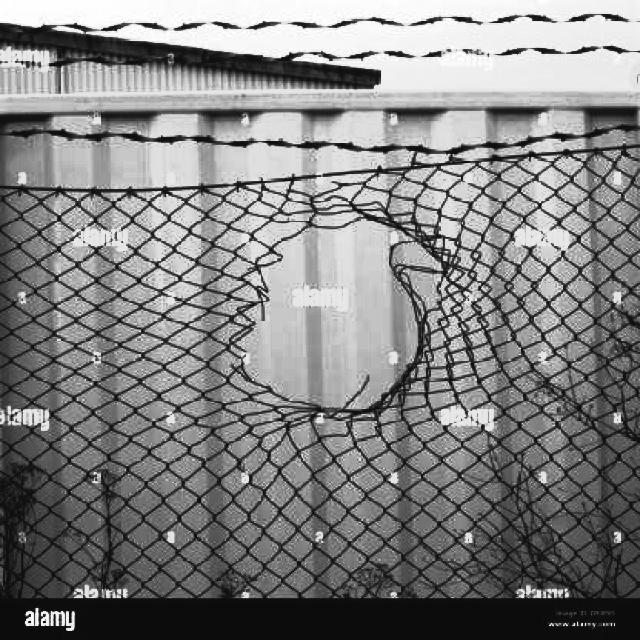anomaly-fence: (226, 198, 466, 438)
